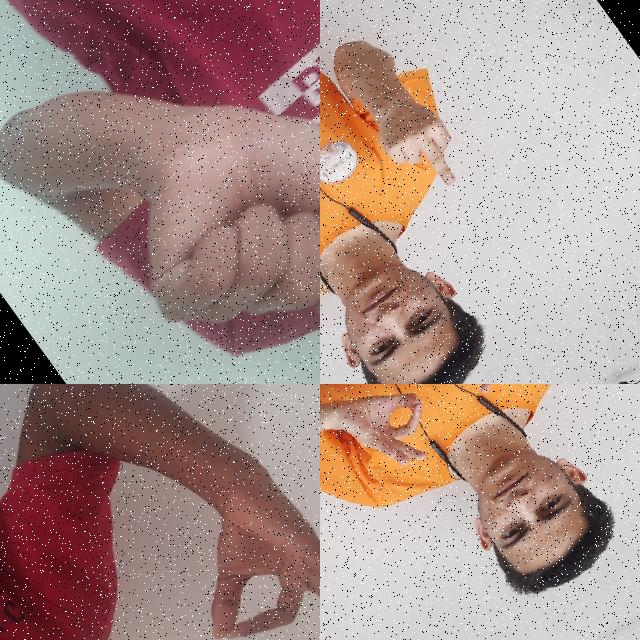Dulya: (66, 34, 320, 384)
Middle Finger: (356, 76, 486, 213)
Okay: (138, 440, 320, 640), (320, 384, 457, 496), (404, 384, 540, 416)
